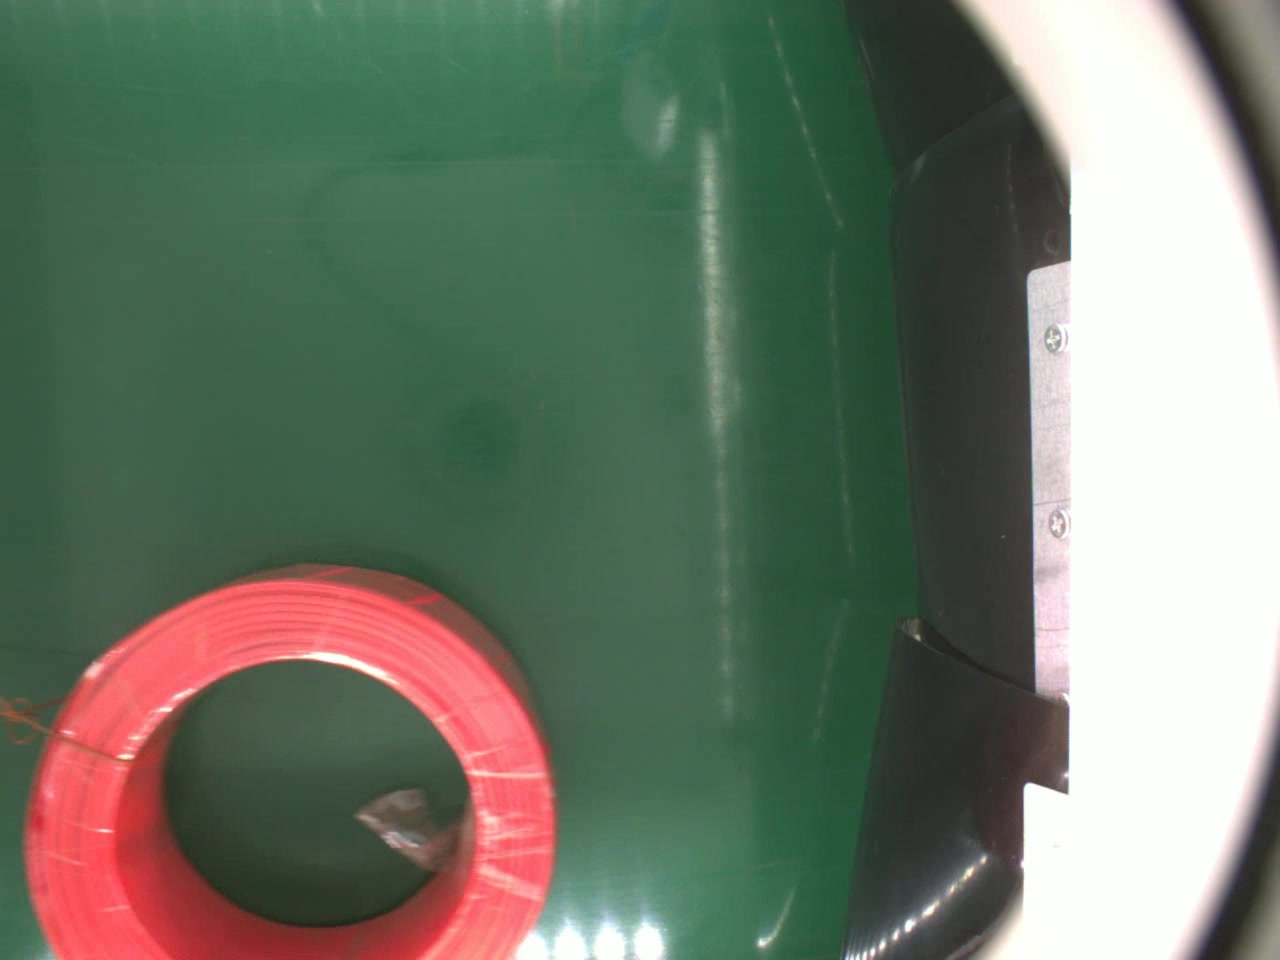red: (21, 558, 568, 960)
